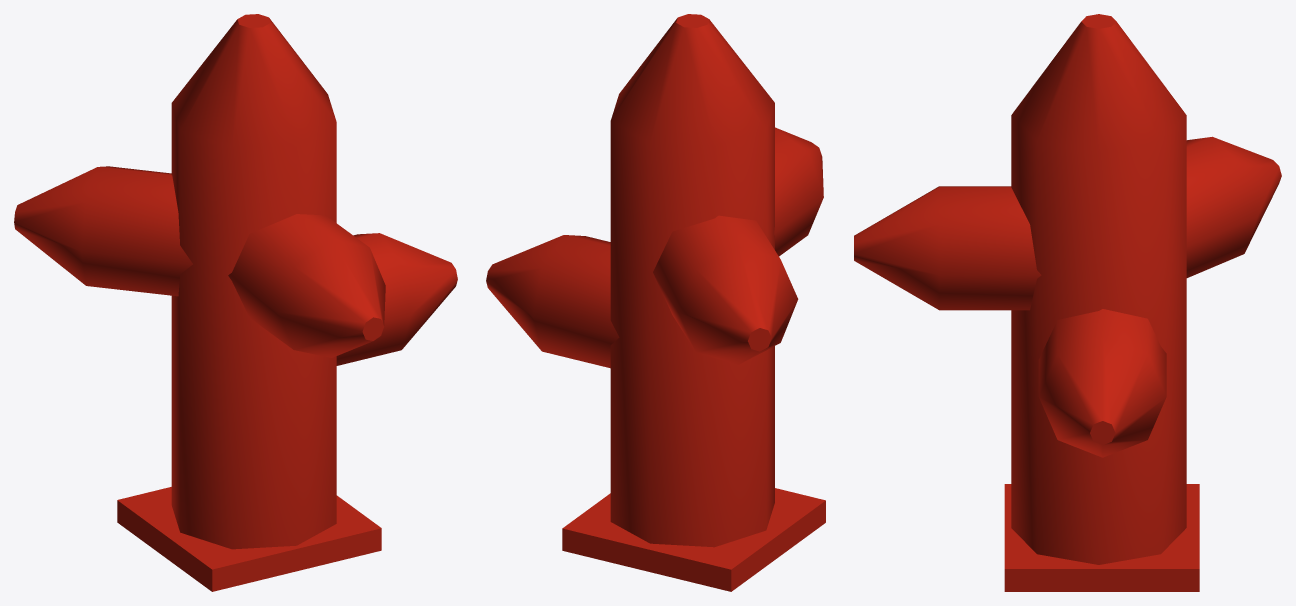
Rendered from hydrant.FBX.
3 renders of one model, left to right at view 1: azimuth 30°, elevation 25°; view 2: azimuth 150°, elevation 25°; view 3: azimuth 270°, elevation 25°, orthographic. The views are drawn at different scales.
Parts seen in each view (by area): view 1: hydrant; view 2: hydrant; view 3: hydrant.
Part boxes in pixels (x1=…): hydrant: x1=14, y1=14, x2=457, y2=591; hydrant: x1=486, y1=14, x2=825, y2=591; hydrant: x1=854, y1=14, x2=1281, y2=591.
Size of the model in its own units: 3.32 by 4.56 by 3.34.
